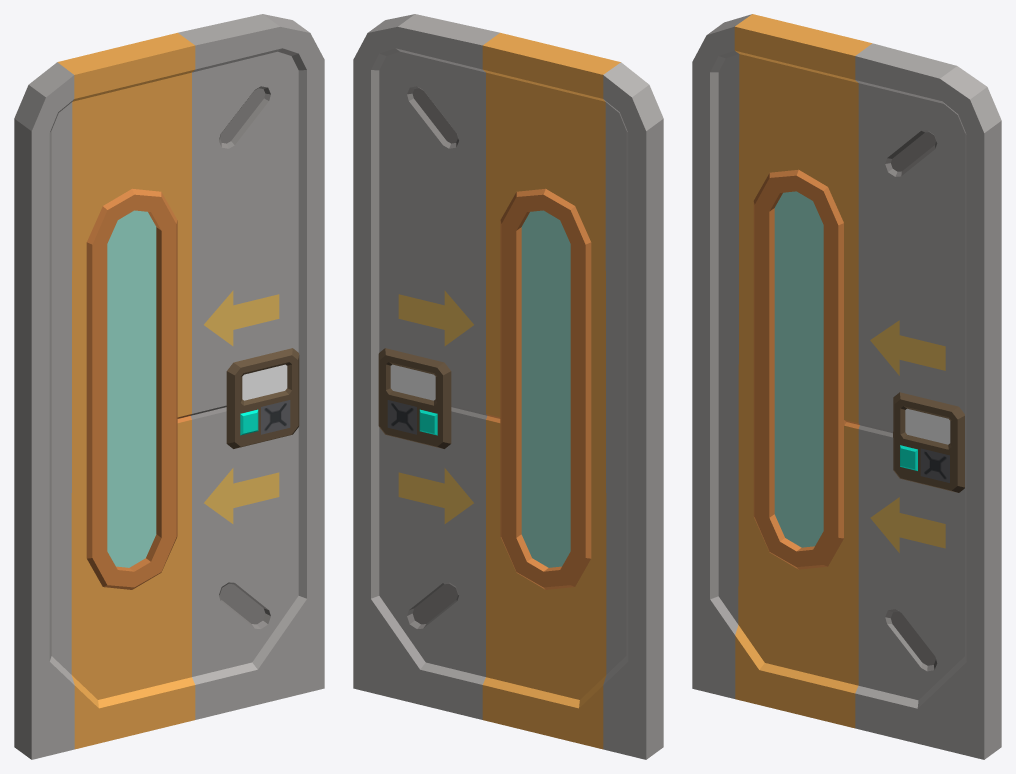
The model's file is SM_Bld_Door_NoFrame_Single_Large_03.fbx.
3 views of the same model, side by side, from view 1: azimuth 30°, elevation 25°; view 2: azimuth 150°, elevation 25°; view 3: azimuth 330°, elevation 25° (orthographic).
Parts seen in each view (by area): view 1: SM_Bld_Door_NoFrame_Single_Large_03, SM_Bld_Door_NoFrame_Single_Large_03_Glass; view 2: SM_Bld_Door_NoFrame_Single_Large_03, SM_Bld_Door_NoFrame_Single_Large_03_Glass; view 3: SM_Bld_Door_NoFrame_Single_Large_03, SM_Bld_Door_NoFrame_Single_Large_03_Glass.
Boxes of the visible parts, left/top/right/bottom form: SM_Bld_Door_NoFrame_Single_Large_03: left=14, top=14, right=324, bottom=759; SM_Bld_Door_NoFrame_Single_Large_03_Glass: left=107, top=210, right=156, bottom=567; SM_Bld_Door_NoFrame_Single_Large_03: left=353, top=14, right=663, bottom=759; SM_Bld_Door_NoFrame_Single_Large_03_Glass: left=521, top=210, right=570, bottom=567; SM_Bld_Door_NoFrame_Single_Large_03: left=692, top=14, right=1001, bottom=759; SM_Bld_Door_NoFrame_Single_Large_03_Glass: left=774, top=191, right=823, bottom=547.
Bounding box in the file's own units: 112 × 247 × 12.89.
